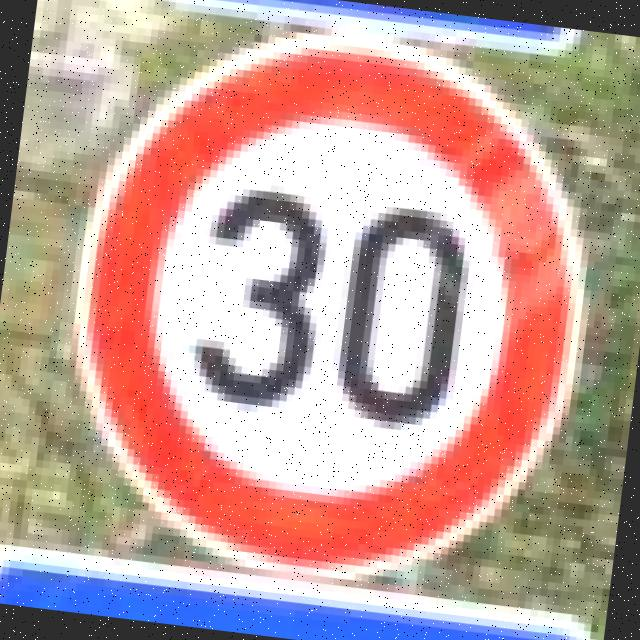Ograniczenie predkosci do 30: (49, 16, 596, 587)
